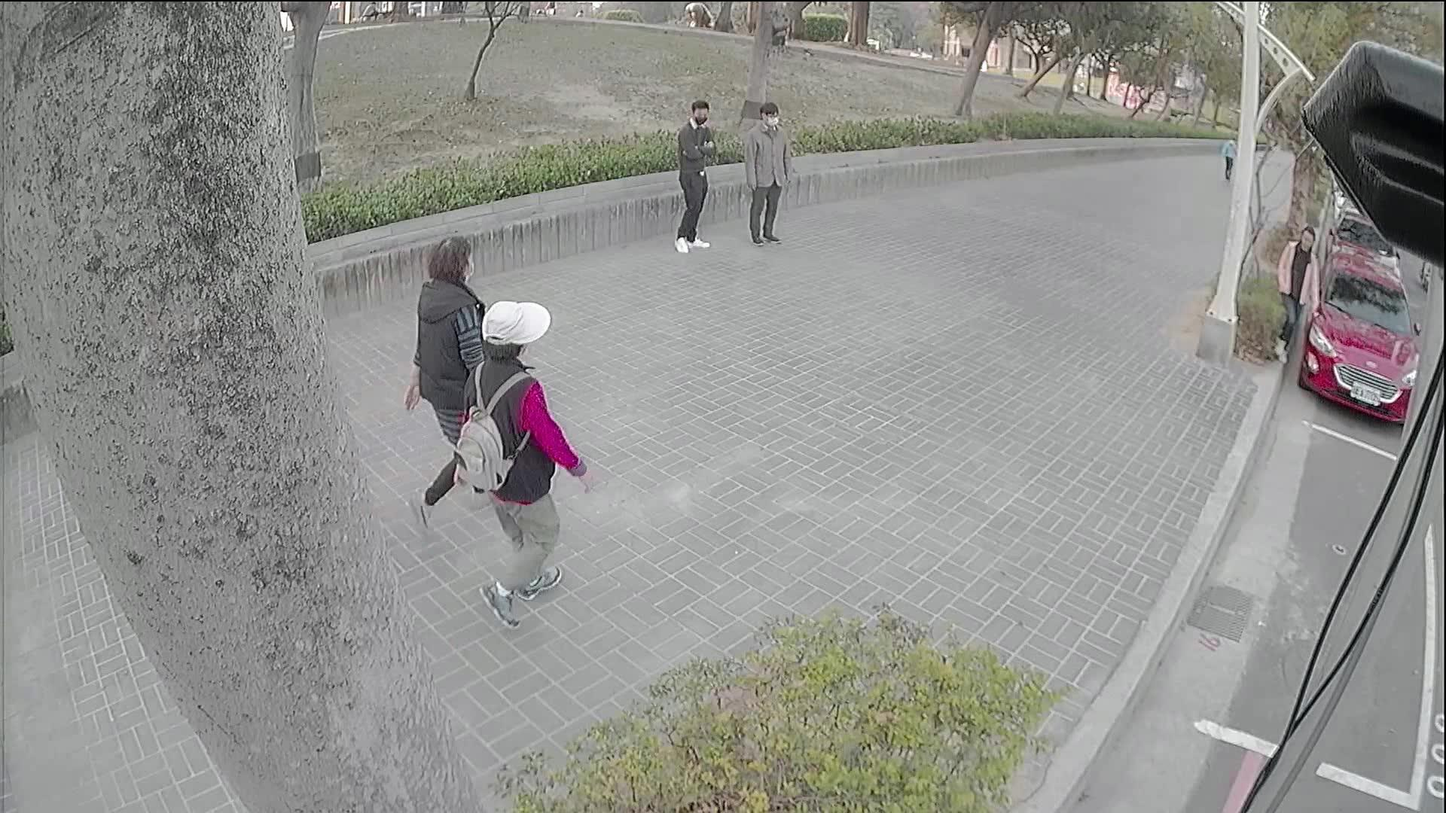person: (423, 303, 581, 628), (406, 239, 487, 528), (743, 107, 791, 247), (676, 100, 718, 253), (1278, 222, 1318, 355), (1218, 130, 1236, 183)
